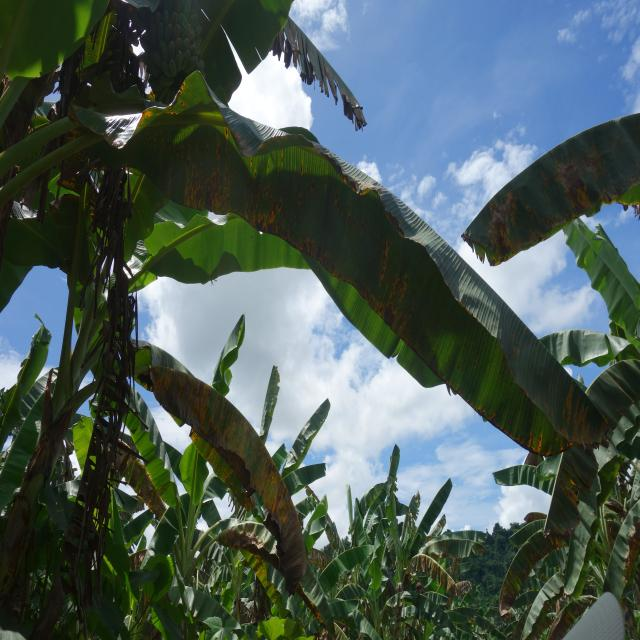Banana-plant: (0, 300, 122, 640)
